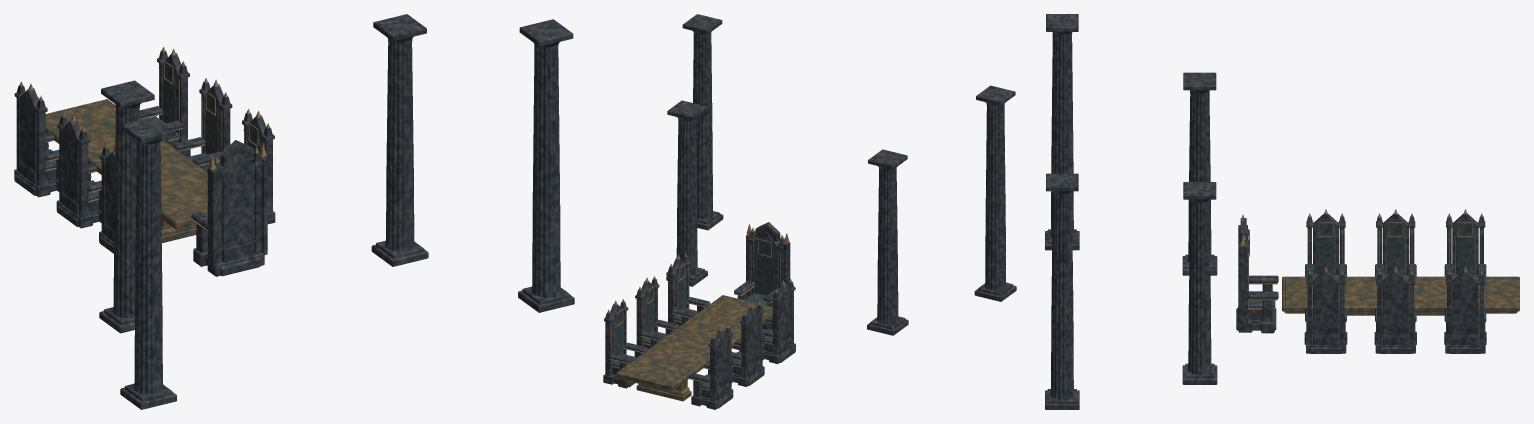
File: tarot-table.glb
3 renders of one model, left to right at view 1: azimuth 30°, elevation 25°; view 2: azimuth 150°, elevation 25°; view 3: azimuth 270°, elevation 25°, orthographic. The views are drawn at different scales.
Parts seen in each view (by area): view 1: Pillars, Head_Throne, Bronze_Table, Seat_05, Seat_03, Seat_04, Seat_06, Seat_01, Seat_02; view 2: Pillars, Bronze_Table, Head_Throne, Seat_05, Seat_03, Seat_01, Seat_06, Seat_04, Seat_02; view 3: Pillars, Bronze_Table, Seat_04, Seat_06, Seat_02, Head_Throne, Seat_03, Seat_05, Seat_01.
Part boxes in pixels (<box>): Pillars: <box>99,14,574,409</box>; Head_Throne: <box>191,140,267,276</box>; Bronze_Table: <box>45,99,207,242</box>; Seat_05: <box>14,81,59,197</box>; Seat_03: <box>56,112,101,228</box>; Seat_04: <box>172,78,232,172</box>; Seat_06: <box>139,46,189,146</box>; Seat_01: <box>99,143,115,253</box>; Seat_02: <box>242,109,275,224</box>; Pillars: <box>666,14,1016,335</box>; Bronze_Table: <box>616,295,772,401</box>; Head_Throne: <box>734,222,790,329</box>; Seat_05: <box>689,324,733,409</box>; Seat_03: <box>731,301,764,386</box>; Seat_01: <box>762,279,795,363</box>; Seat_06: <box>603,299,647,388</box>; Seat_04: <box>635,276,679,349</box>; Seat_02: <box>666,253,710,326</box>; Pillars: <box>1045,14,1217,409</box>; Bronze_Table: <box>1282,276,1519,315</box>; Seat_04: <box>1374,266,1416,353</box>; Seat_06: <box>1444,266,1486,353</box>; Seat_02: <box>1304,266,1347,353</box>; Head_Throne: <box>1236,214,1278,333</box>; Seat_03: <box>1375,209,1416,276</box>; Seat_05: <box>1444,209,1486,276</box>; Seat_01: <box>1305,209,1346,276</box>.
Size of the model in its own units: 20.09 by 11.98 by 23.15.
Materials: 1 (1 with a texture image).
